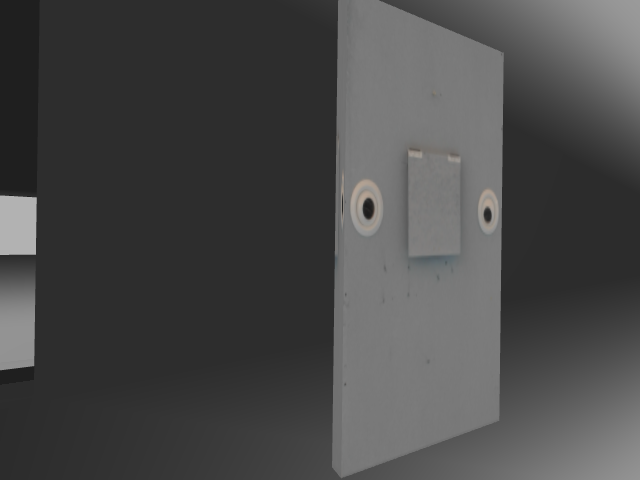facade: (347, 146, 499, 259)
